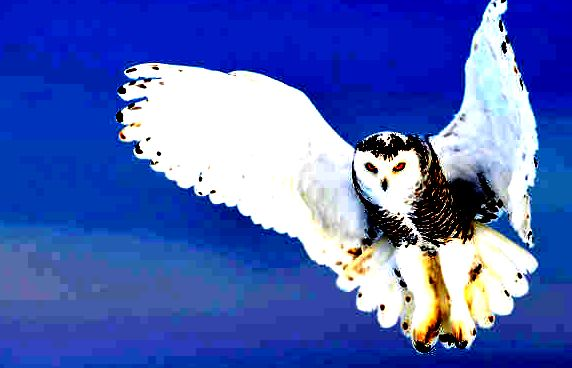Bird: (110, 1, 544, 362)
